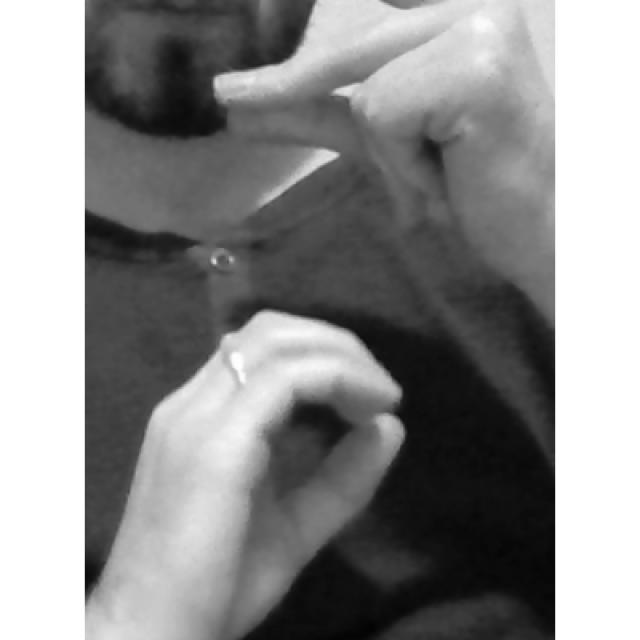O--: (88, 0, 558, 640)
